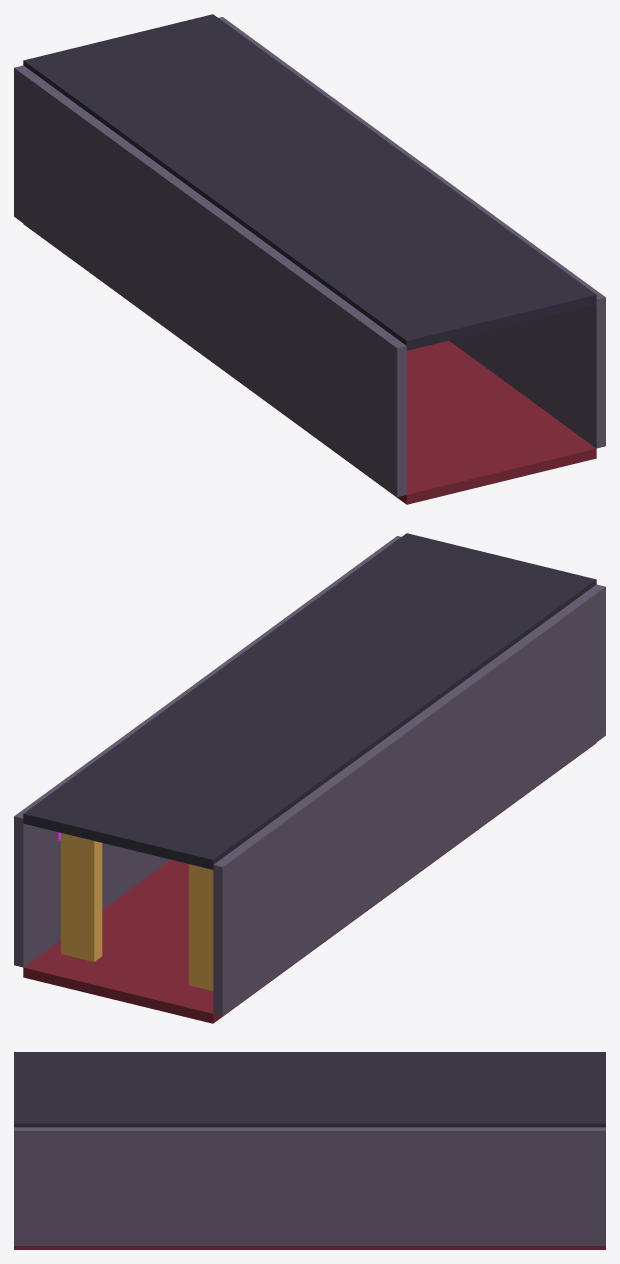
File: hallway.obj
The picture shows the model from 3 angles, top to bottom: view 1: azimuth 30°, elevation 25°; view 2: azimuth 150°, elevation 25°; view 3: azimuth 270°, elevation 25°; orthographic projection. The views are drawn at different scales.
Bounding box in the file's own units: 4.4 × 3.3 × 14.
